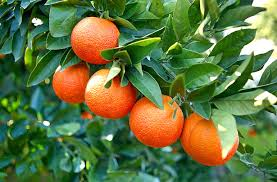orange: (182, 100, 242, 168), (128, 92, 185, 149), (69, 14, 124, 65), (85, 67, 138, 119), (51, 57, 93, 107)
